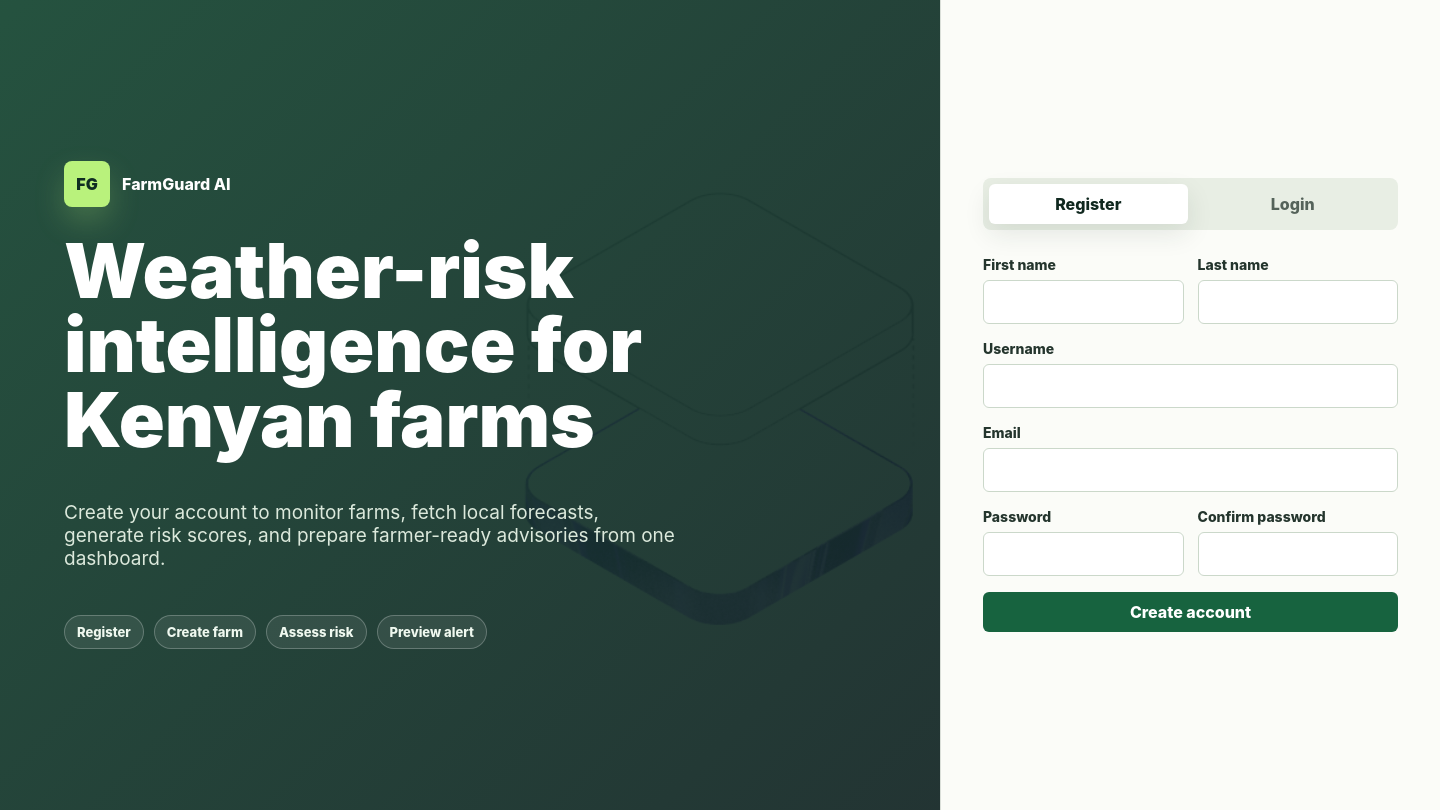
Scenario: App authentication › switches between registration and login forms
Click the button "Login": point(1293, 204) [1194,184,1392,224]
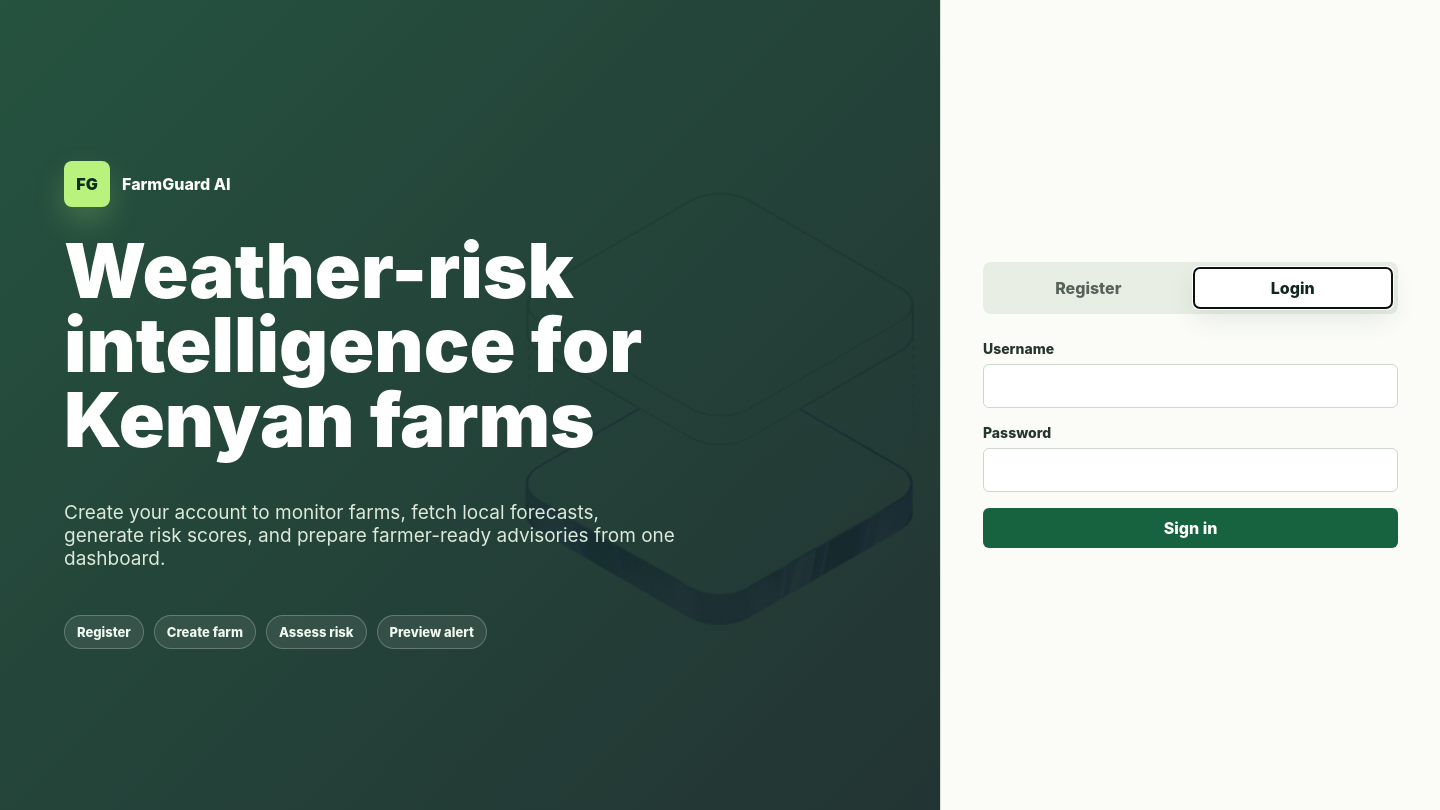
Expected: the button "Sign in" is shown, [983,508,1398,548]
Expected: the label labelled "Confirm password" is gone
